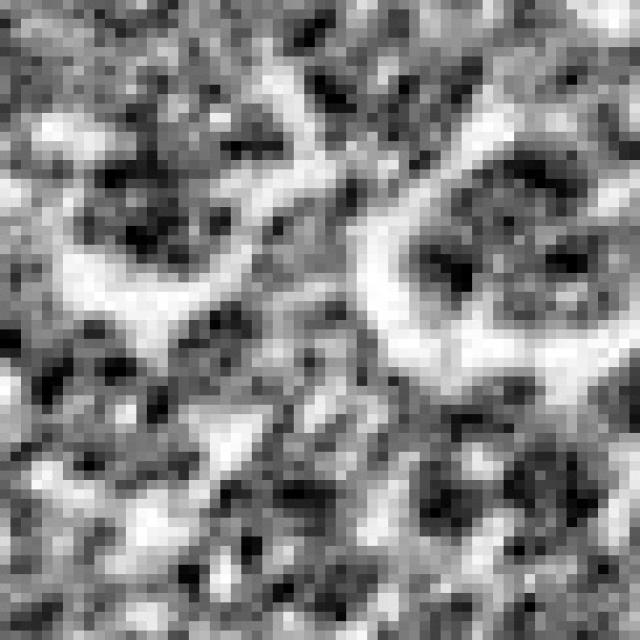inner: (164, 183, 435, 454)
lobe: (69, 45, 297, 280), (168, 407, 399, 631), (391, 130, 631, 332), (406, 371, 617, 570), (5, 319, 214, 502), (288, 37, 494, 218)
outer: (0, 0, 640, 640)
